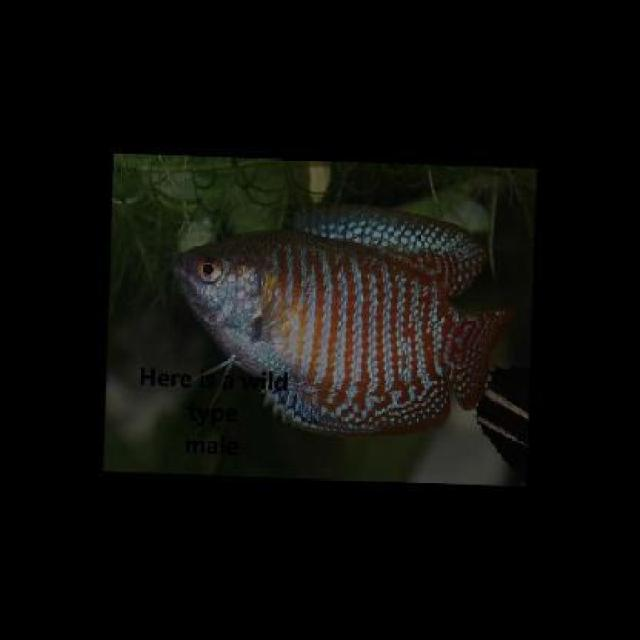Gourami: (168, 202, 518, 438)
